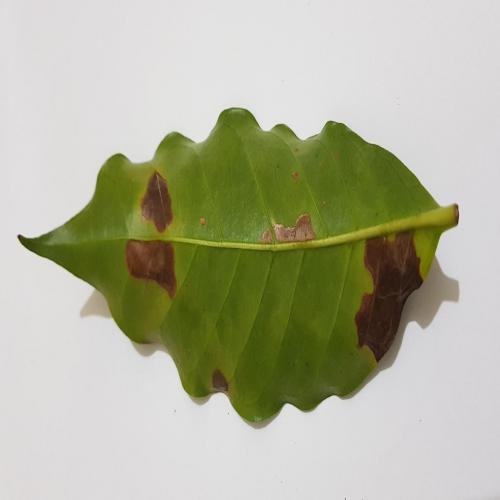leaf: (126, 169, 177, 300)
